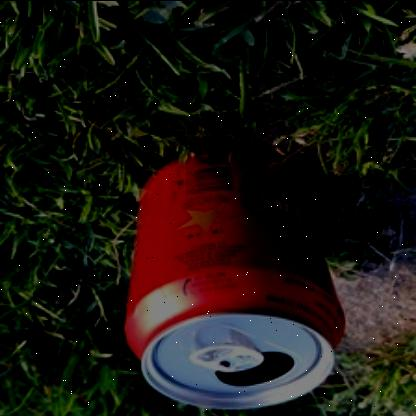Can: (124, 146, 346, 410)
